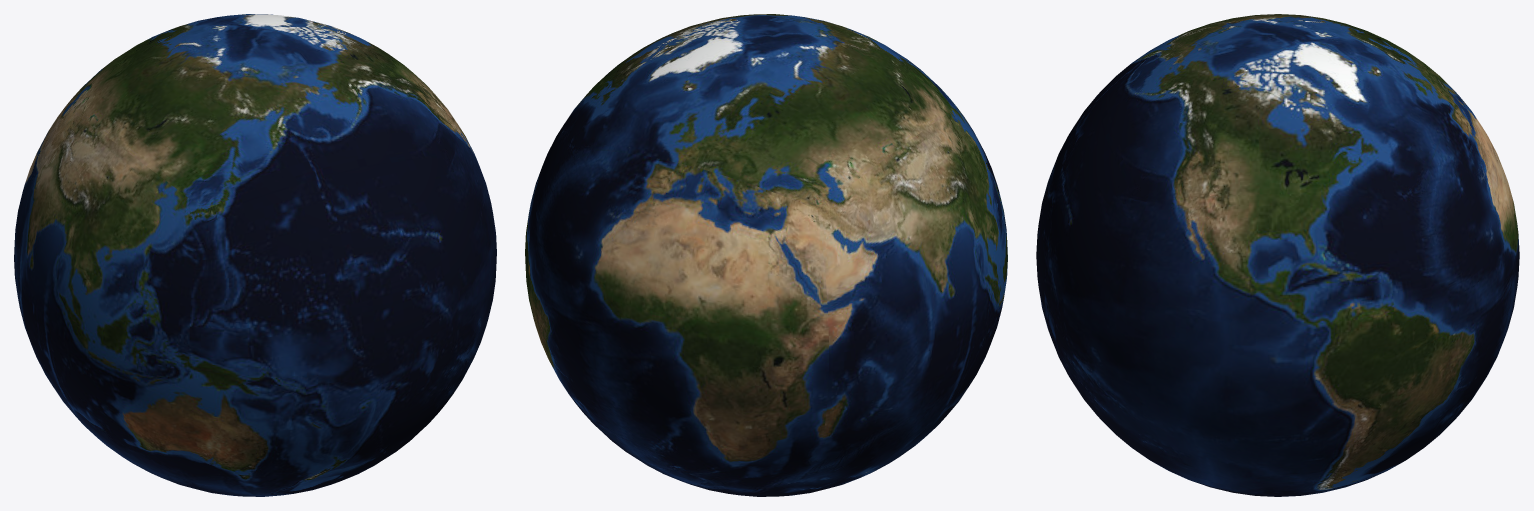
The model's file is nasa-earth.glb.
3 views of the same model, side by side, from view 1: azimuth 30°, elevation 25°; view 2: azimuth 150°, elevation 25°; view 3: azimuth 270°, elevation 25° (orthographic).
Visible parts, largest first — view 1: Cube.001; view 2: Cube.001; view 3: Cube.001.
Boxes of the visible parts, x1,y1,x2,y2 form: Cube.001: [14, 14, 496, 496]; Cube.001: [525, 14, 1007, 496]; Cube.001: [1036, 14, 1519, 496].
Bounding box in the file's own units: 2 × 2 × 2.
1 material, 1 textured.
